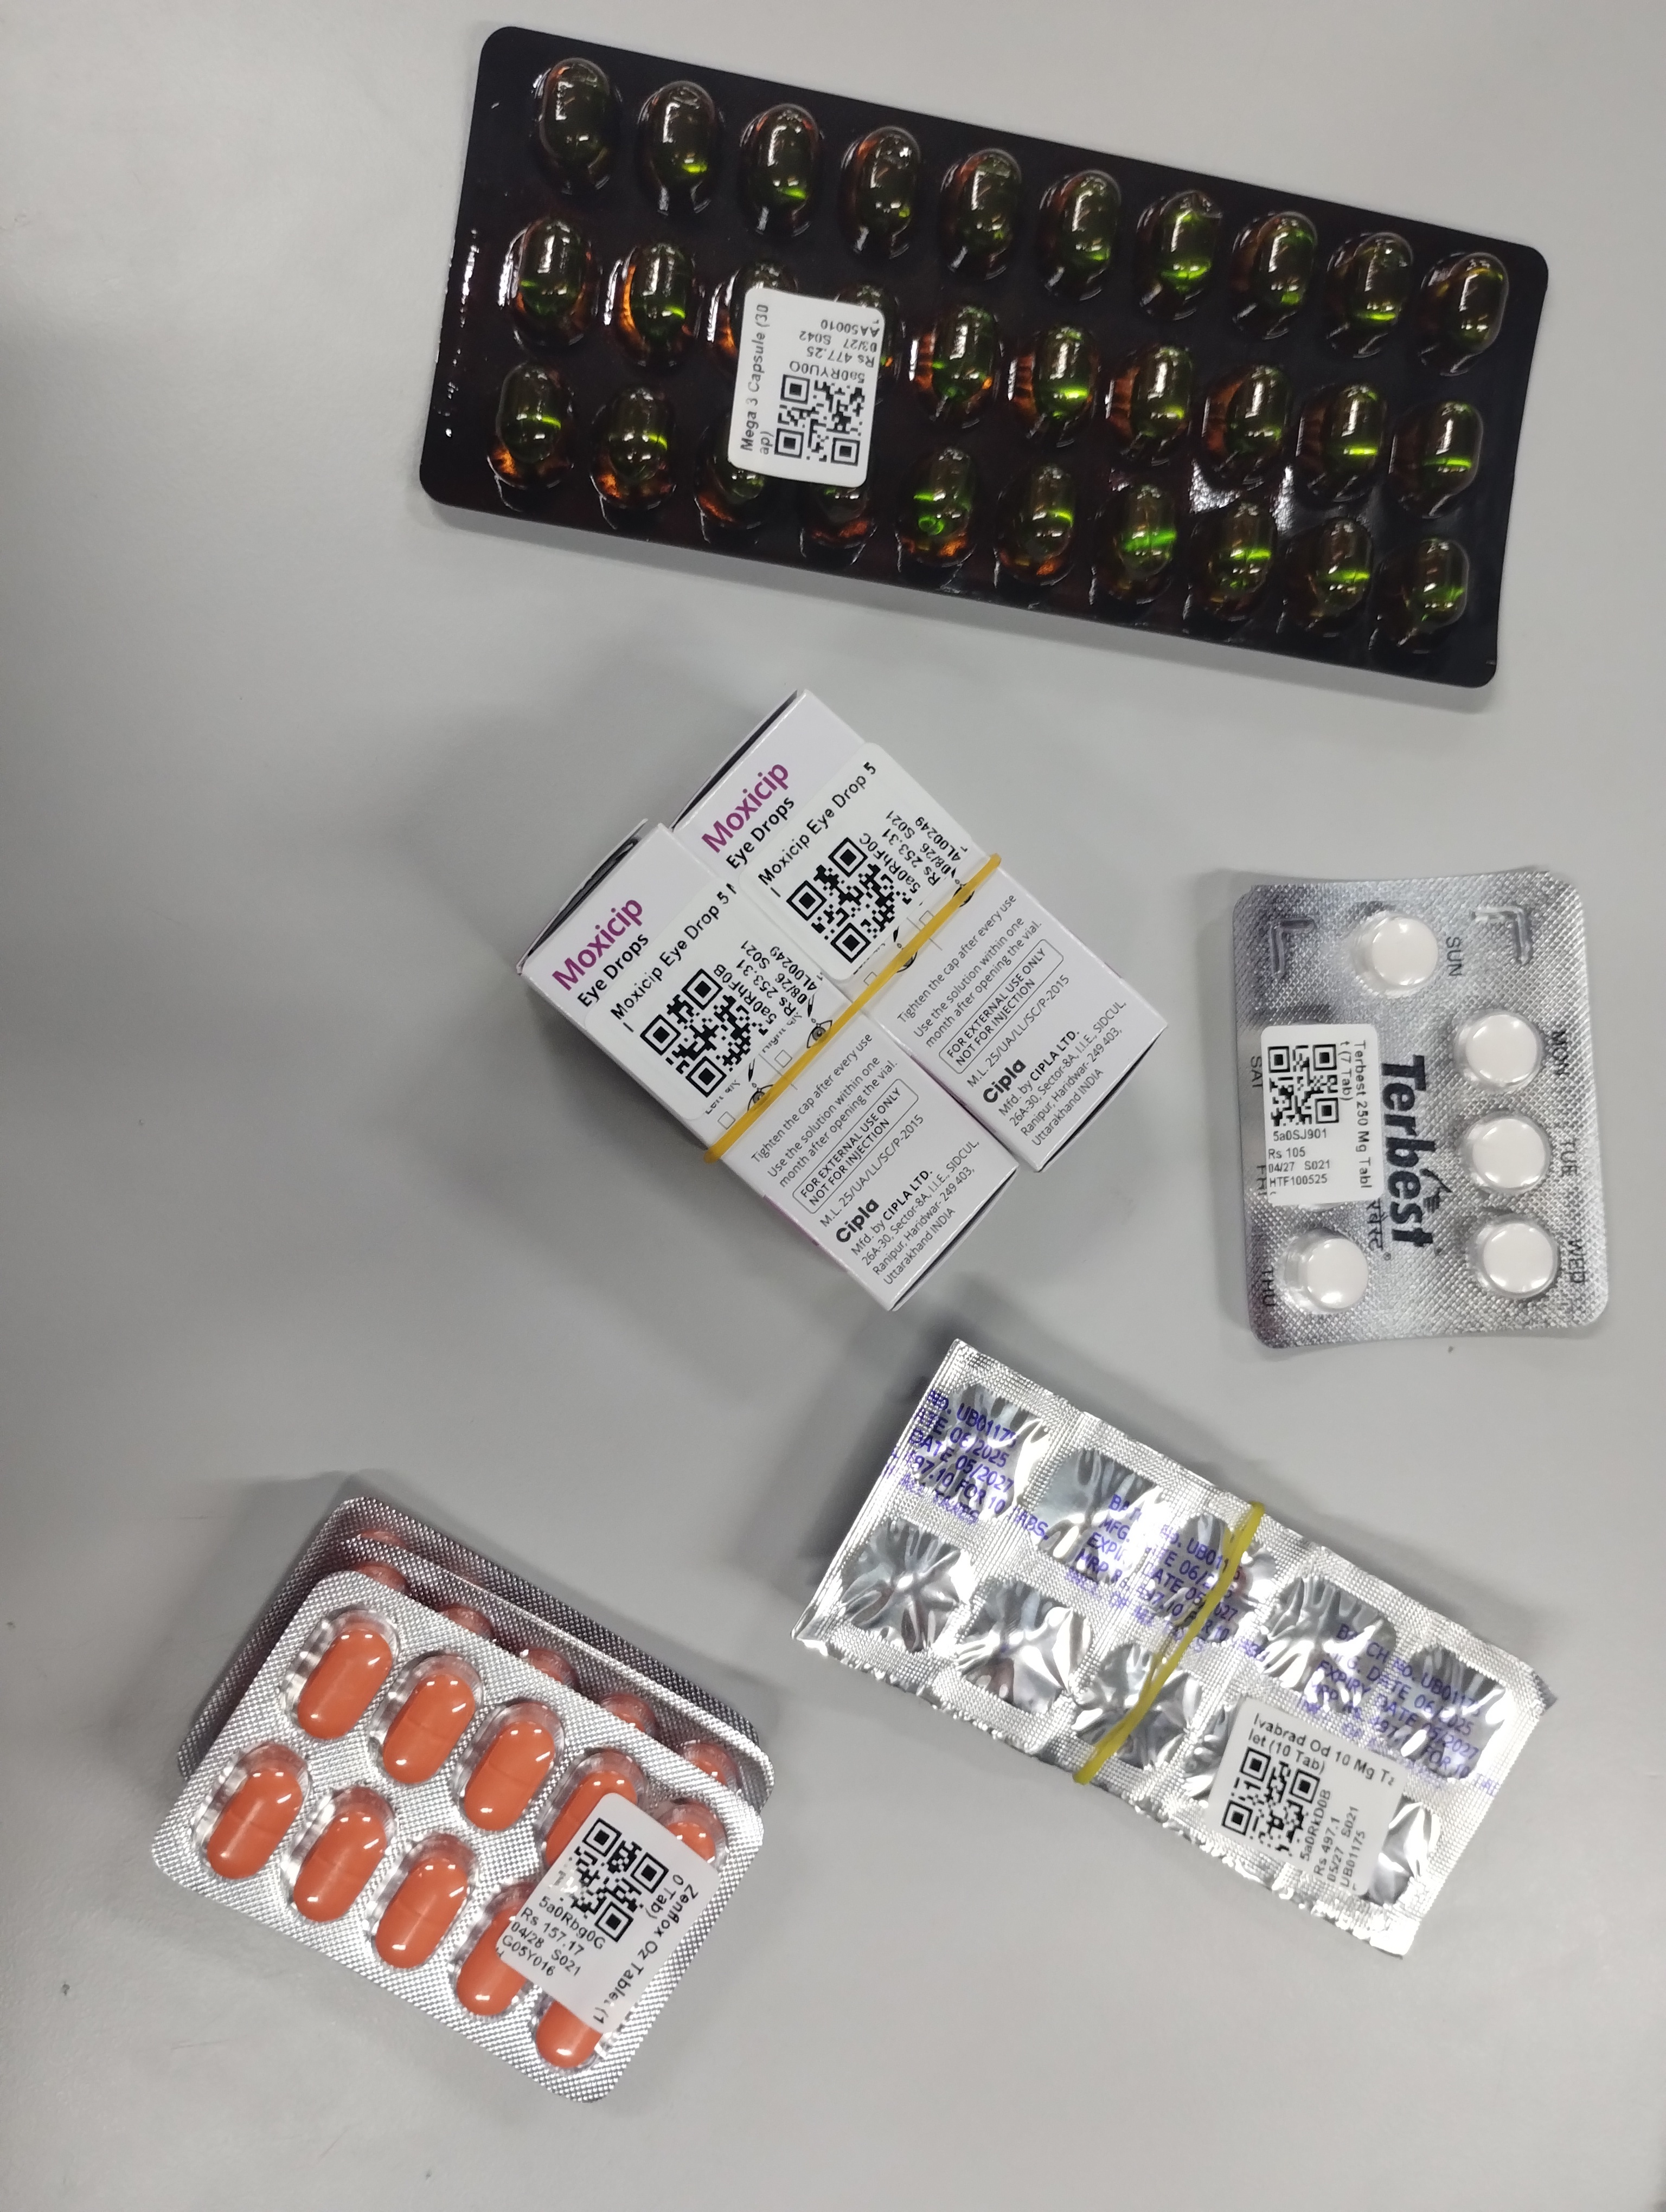QR: (639, 902, 770, 1032), (786, 773, 912, 901)
